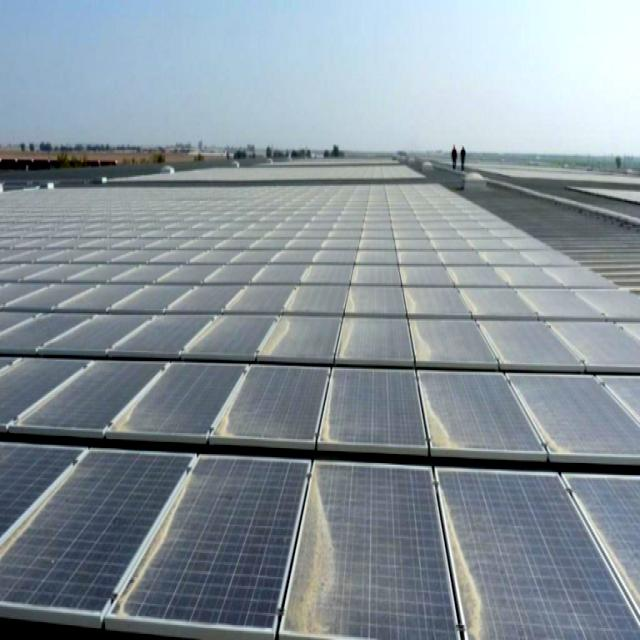dust: (104, 458, 257, 640), (425, 473, 589, 640), (271, 468, 412, 640), (510, 310, 600, 460), (92, 302, 188, 442), (313, 300, 397, 454), (212, 314, 302, 452), (0, 455, 88, 586), (409, 322, 493, 452), (400, 208, 489, 307), (263, 208, 368, 287), (0, 317, 82, 418), (21, 202, 122, 282), (145, 208, 241, 287)
